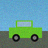vehicle: (9, 20, 42, 41)
